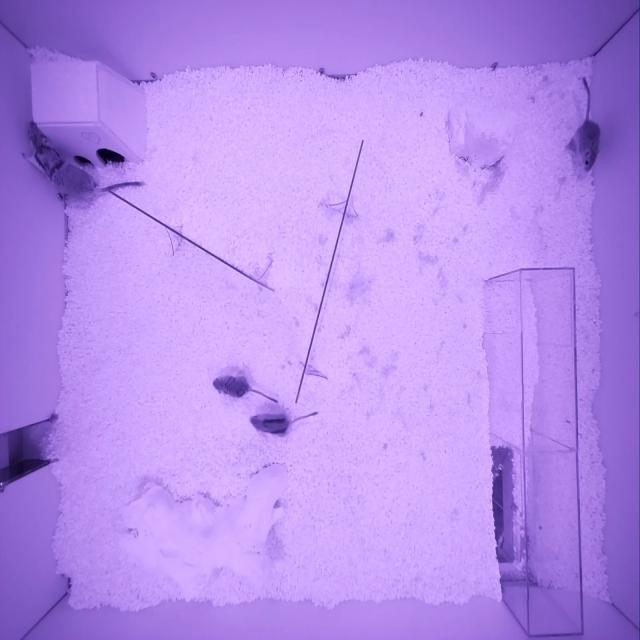adult_front: (22, 121, 98, 201)
pup_fluffy: (573, 121, 600, 172)
pup_spotted: (213, 375, 249, 399)
pup_v_stripe: (249, 412, 290, 435)
